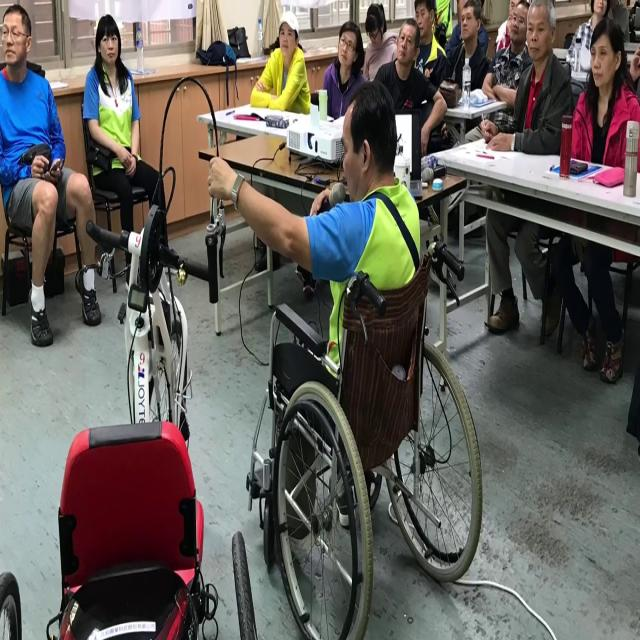wheelchairs: (242, 214, 491, 640)
